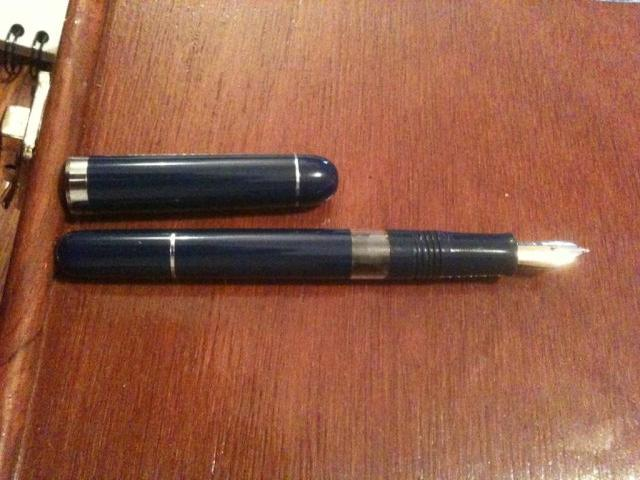PEN: (60, 212, 588, 300)
